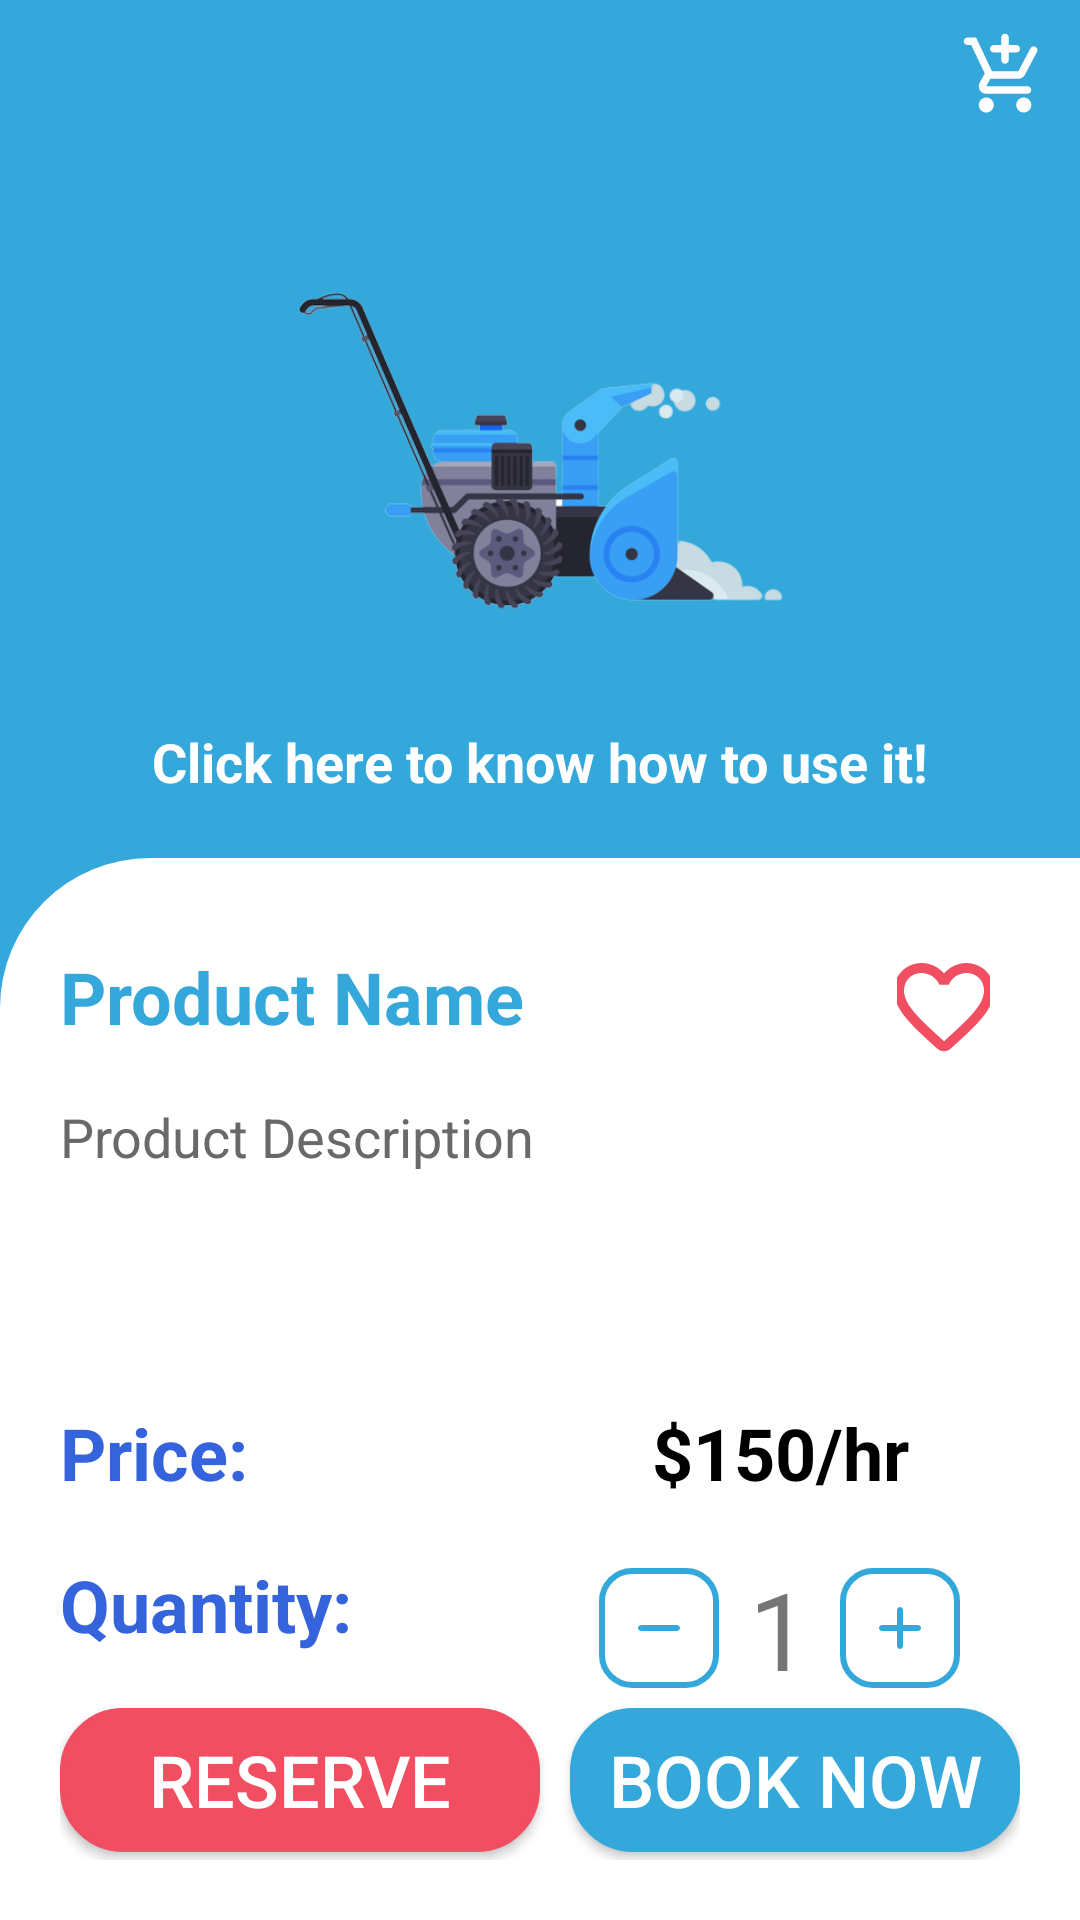

Screen size 1080x1920. Icon name, then its box in pixels as (x1, y1, x2, y2):
add: (840, 1568, 960, 1688)
add shopping cart: (963, 33, 1038, 113)
favorite border: (897, 963, 990, 1052)
remove: (599, 1568, 719, 1688)
